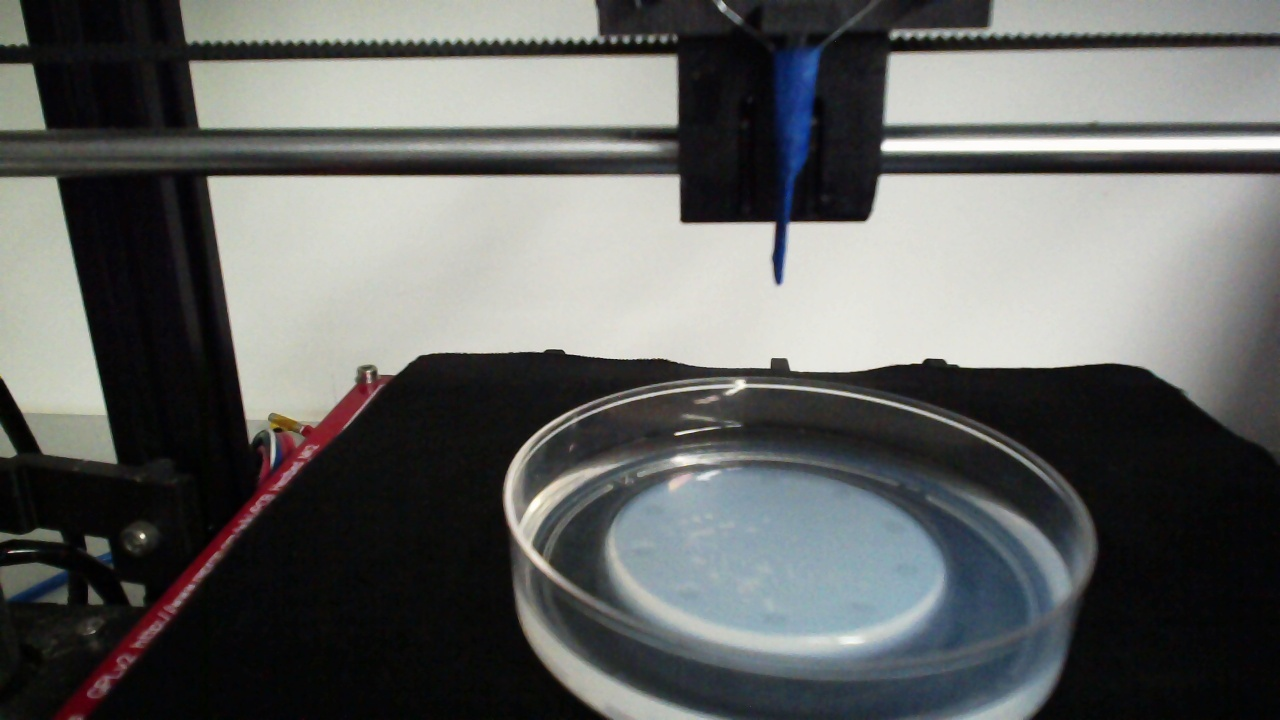groove: (756, 606, 793, 631), (891, 556, 924, 583), (849, 594, 880, 620), (628, 540, 659, 563), (673, 581, 704, 604), (755, 469, 787, 491), (639, 495, 666, 521), (879, 515, 909, 538), (825, 484, 854, 506)
needle: (772, 49, 818, 287)
